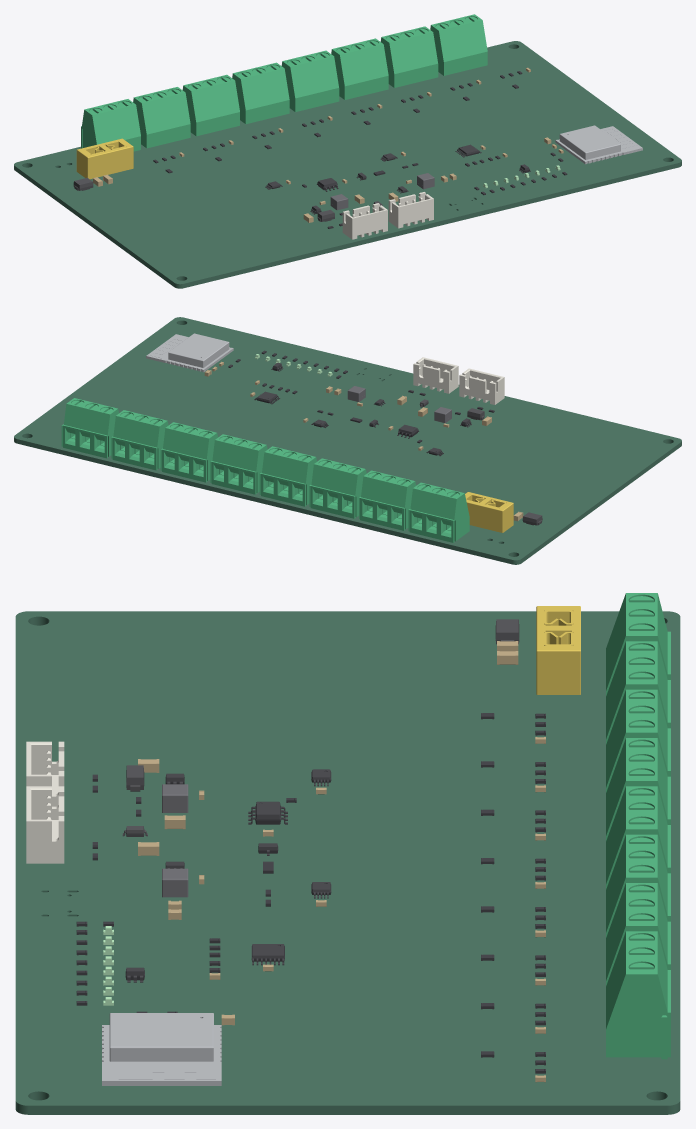
3 renders of one model, top to bottom at view 1: azimuth 30°, elevation 25°; view 2: azimuth 150°, elevation 25°; view 3: azimuth 270°, elevation 25°, orthographic. The views are drawn at different scales.
Visible parts, largest first — view 1: =>[0:1:1:23], J12, J10, J7, J11, J9, J13, J8, J6, U3, F1, JL1 (+1 smaller); view 2: =>[0:1:1:23], J6, J11, J9, J13, J12, J10, J8, J7, U3, F1, JL1 (+1 smaller); view 3: =>[0:1:1:23], U3, J13, F1, J12, J8, J7, J6, J11, J9, J10, JL2 (+4 smaller).
Part boxes in pixels (x1,y1,x2,y2): =>[0:1:1:23]: (14,41,681,288); J12: (380,26,438,87); J10: (281,50,339,111); J7: (133,87,190,148); J11: (331,38,388,99); J9: (232,62,289,123); J13: (430,14,487,75); J8: (182,74,239,136); J6: (81,99,140,151); U3: (555,125,642,164); F1: (76,138,133,179); JL1: (342,203,387,239); =>[0:1:1:23]: (14,317,681,564); J6: (408,482,469,542); J11: (160,422,217,482); J9: (259,446,316,506); J13: (61,398,118,458); J12: (111,410,168,470); J10: (210,434,267,494); J8: (309,458,366,518); J7: (359,470,416,530); U3: (146,333,233,372); F1: (465,492,513,532); JL1: (459,368,504,404); =>[0:1:1:23]: (15,611,680,1114); U3: (102,1013,221,1085); J13: (606,931,670,1059); F1: (536,606,580,694); J12: (606,883,670,985); J8: (606,689,670,792); J7: (606,641,670,744); J6: (606,593,670,695); J11: (606,834,670,937); J9: (606,738,670,840); J10: (606,786,670,889); JL2: (26,786,64,863).
Bounding box in the file's own units: 0.176 × 0.0173 × 0.1.
